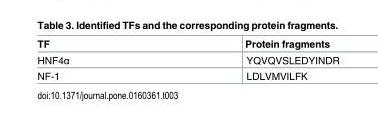table: (36, 37, 338, 81)
table column: (156, 37, 338, 81), (36, 37, 156, 81)
table column header: (36, 37, 338, 51)
table row: (36, 51, 338, 67), (36, 37, 338, 51), (36, 67, 338, 81)
